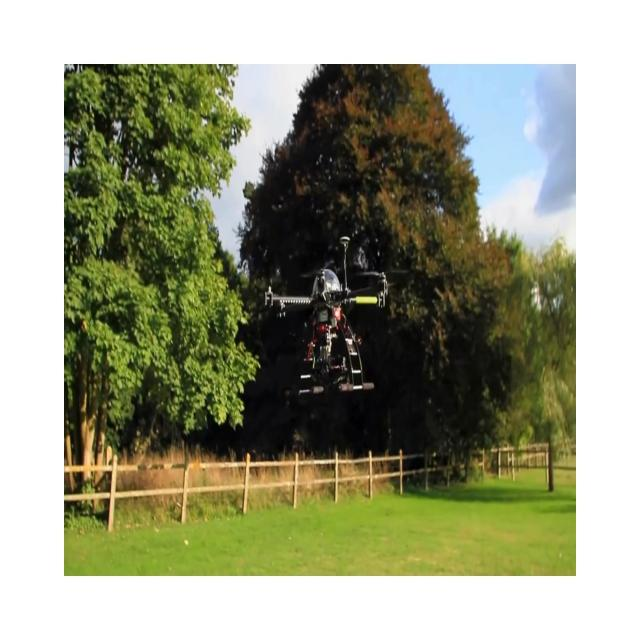drone: (263, 234, 389, 399)
